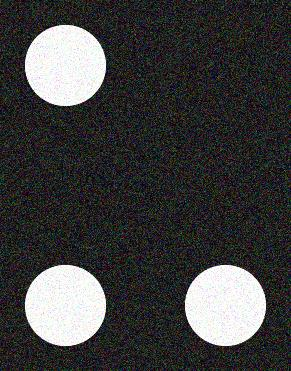U: (19, 18, 271, 352)
